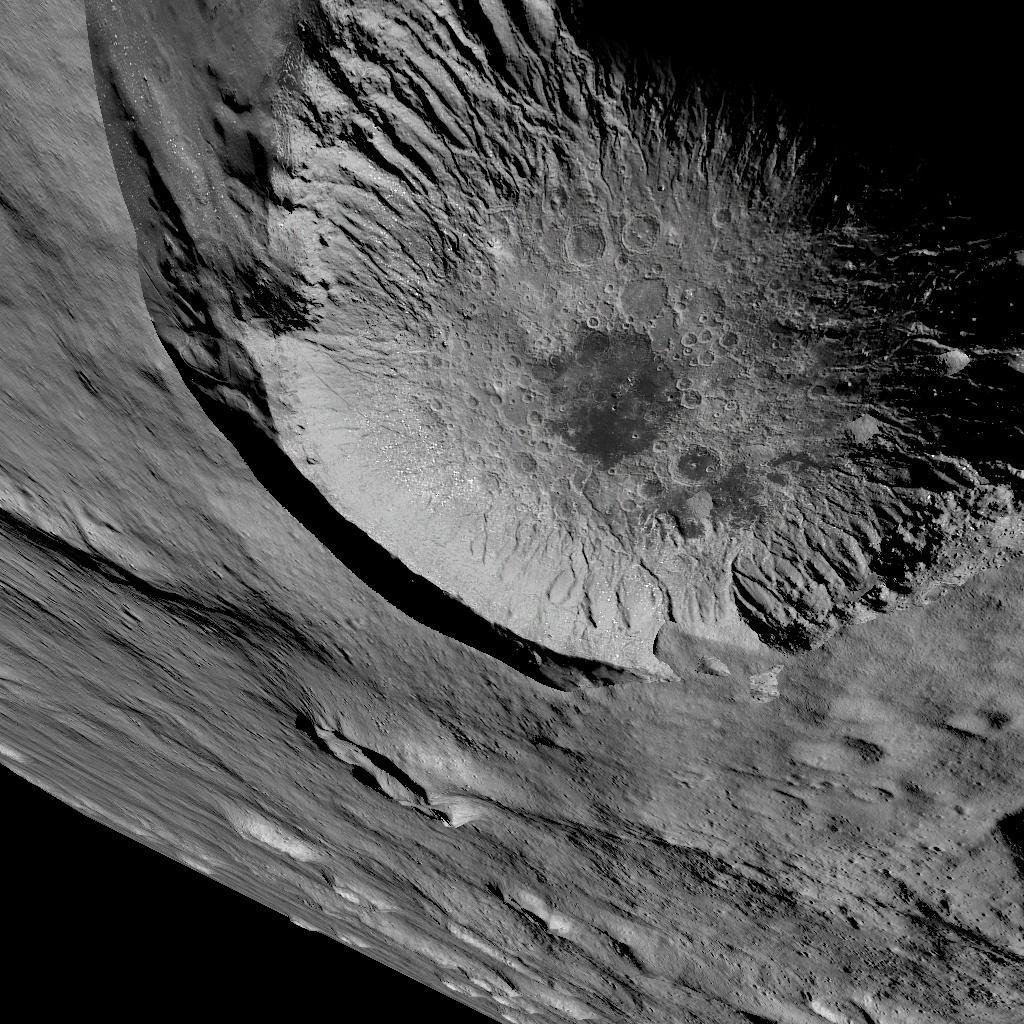Crater: (69, 6, 1024, 708), (278, 718, 448, 838)
Plan surface: (494, 728, 972, 1024)
